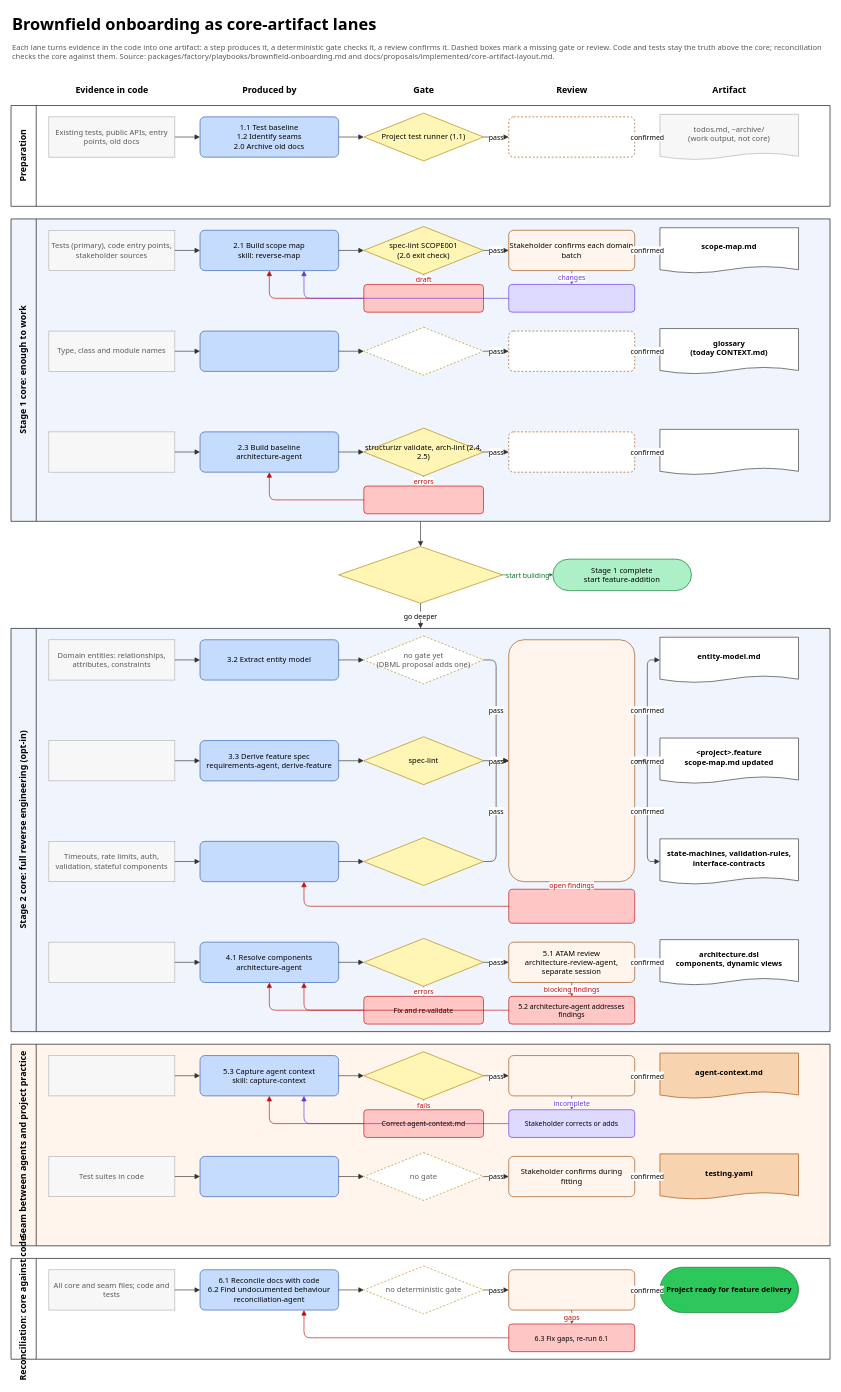
Some shapes in this 841 by 1392 pixel diagram are drawn without their labels. Here are the shapes that lost their labels. From the top down, the centre of each, then its label:
At pixel 571 136: "none".
At pixel 423 298: "Confirm the draft map".
At pixel 571 298: "Stakeholder corrects the batch".
At pixel 269 350: "2.1 seeds the vocabulary 3.1 extends it".
At pixel 423 351: "spec-lint GLOSS001 (info only, not in playbook)".
At pixel 571 350: "none in playbook".
At pixel 111 451: "Code and infrastructure-as-code (2.2 locates it)".
At pixel 571 451: "none in Stage 1".
At pixel 729 452: "architecture.dsl context, containers, deployment".
At pixel 423 499: "Fix DSL or lint errors".
At pixel 420 574: "2.6 Stage 1 exit: go deeper or start building?".
At pixel 111 760: "Tests, API endpoints, user flows; scope map".
At pixel 571 760: "3.8 Spec review spec-review-agent, separate session skill: inspect-spec".
At pixel 269 861: "3.6 Supplementary specs 3.7 State machines".
At pixel 423 861: "statemachine-lint, spec-lint".
At pixel 571 906: "requirements-agent fixes open SPEC findings, then re-review".
At pixel 111 962: "Specification artifacts and code".
At pixel 423 962: "structurizr validate, arch-lint (4.2)".
At pixel 111 1075: "Package manifests, test and linter configs, IaC, CI/CD".
At pixel 423 1075: "concern-lint (5.4 planning gate)".
At pixel 571 1075: "Stakeholder confirms and approves (5.3, 5.4)".
At pixel 269 1176: "skill: detect-test-regime (fitting, outside this playbook)".
At pixel 571 1289: "6.3 Aligned, no blocking findings?".
